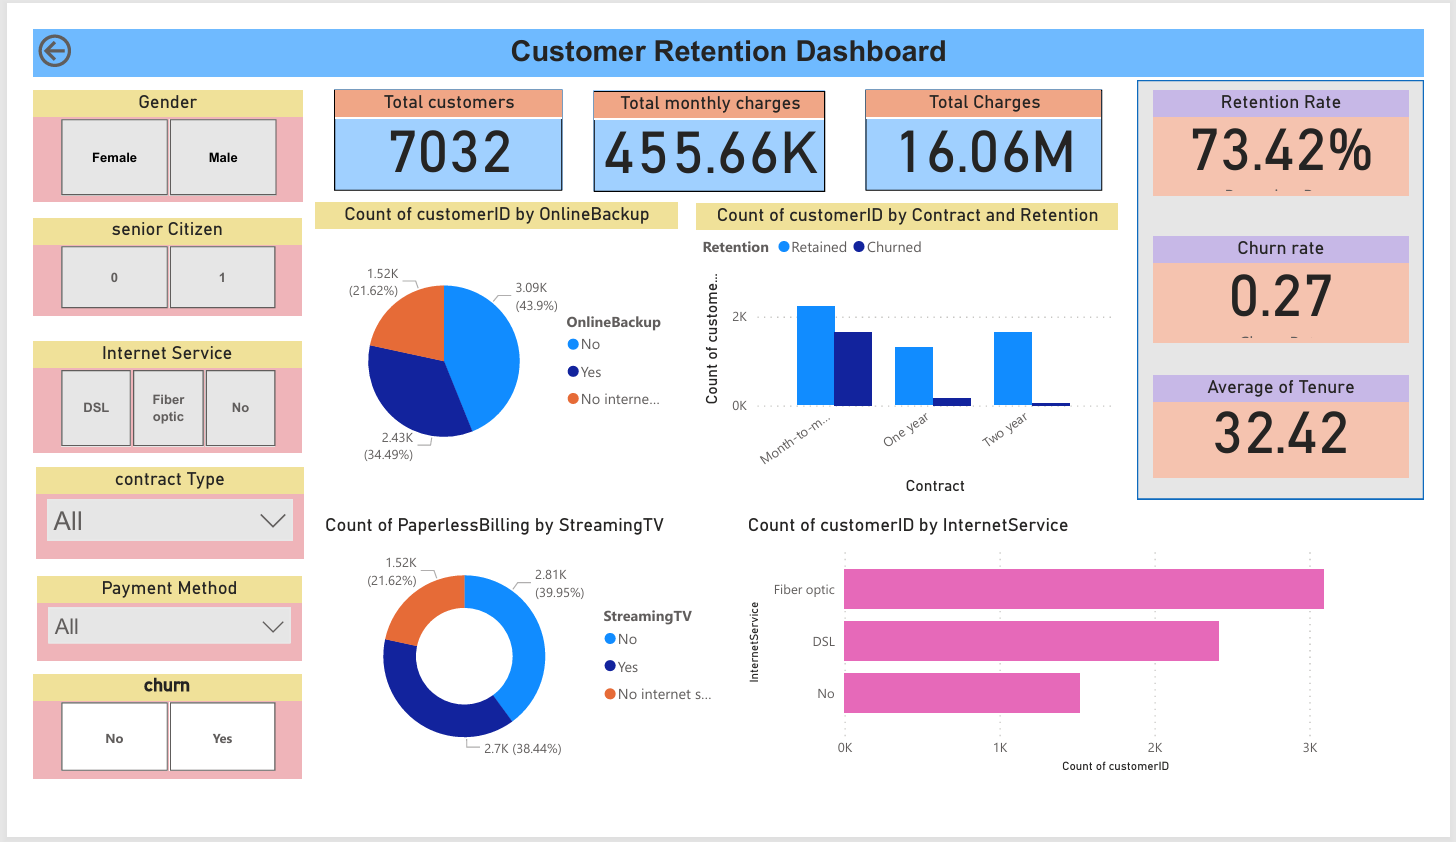

The page's visual inventory and layout, read from the dashboard file:
{"tool":"powerbi","page":{"name":"Page 1","canvas":[1280,720],"ordinal":0},"visuals":[{"type":"card","title":"Total  customers","fields":{"Values":["Count(WA_Fn-UseC_-Telco-Customer-Churn.customerID)"]},"box":[277.1,55.7,210,92.9],"z":0},{"type":"textbox","box":[0,0,1280.3,43.9],"z":1000},{"type":"actionButton","box":[0,0,100,40],"z":2000},{"type":"card","title":"Total monthly charges","fields":{"Values":["Sum(WA_Fn-UseC_-Telco-Customer-Churn.MonthlyCharges)"]},"box":[515.7,57.1,212.9,92.9],"z":3000},{"type":"card","title":"Total Charges","fields":{"Values":["Sum(WA_Fn-UseC_-Telco-Customer-Churn.TotalCharges)"]},"box":[765.7,55.7,218.6,92.9],"z":4000},{"type":"slicer","title":"Gender","fields":{"Values":["telco.gender"]},"box":[0,56.6,248,103.8],"z":5000},{"type":"pieChart","fields":{"Y":["CountNonNull(telco.customerID)"],"Category":["telco.OnlineBackup"]},"box":[260,160,334.3,272.9],"z":6000},{"type":"slicer","title":"senior Citizen","fields":{"Values":["telco.SeniorCitizen"]},"box":[0,173.8,246.6,90.3],"z":7000},{"type":"slicer","title":"Internet Service","fields":{"Values":["telco.InternetService"]},"box":[0,288.4,246.6,102.4],"z":8000},{"type":"slicer","title":"Payment Method","fields":{"Values":["telco.PaymentMethod"]},"box":[4,504,242.6,78.2],"z":9000},{"type":"slicer","title":"contract Type","fields":{"Values":["telco.Contract"]},"box":[2.7,404.3,246.6,83.6],"z":10000},{"type":"clusteredColumnChart","fields":{"Category":["telco.Contract"],"Y":["CountNonNull(telco.customerID)"],"Series":["telco.Retention"]},"box":[611.4,161.4,387.1,271.4],"z":11000},{"type":"shape","box":[1015.7,47.1,264.3,385.7],"z":12000},{"type":"clusteredBarChart","fields":{"Category":["telco.InternetService"],"Y":["CountNonNull(telco.customerID)"]},"box":[652.9,445.7,612.9,244.3],"z":13000},{"type":"donutChart","fields":{"Category":["telco.StreamingTV"],"Y":["CountNonNull(telco.PaperlessBilling)"]},"box":[264.3,445.7,375.7,244.3],"z":14000},{"type":"card","title":"Retention Rate","fields":{"Values":["telco.Retention Rate"]},"box":[1031.4,57.1,234.3,97.1],"z":15000},{"type":"card","title":"Churn rate","fields":{"Values":["telco.Churn Rate"]},"box":[1031.4,191.4,234.3,97.1],"z":16000},{"type":"card","title":"Average of Tenure","fields":{"Values":["Avg(telco.tenure)"]},"box":[1031.4,318.6,234.3,94.3],"z":17000},{"type":"slicer","title":"churn","fields":{"Values":["telco.Churn"]},"box":[0,594.3,246.6,95.7],"z":18000}]}

Visuals, with their boxes in screenshot pixels (x1, y1, x2, y2), scaled from the page's 1280x720 canvas onto the 1456x842 screenshot:
"Total  customers" card: <bbox>315, 65, 554, 174</bbox>
textbox: <bbox>0, 0, 1455, 51</bbox>
actionButton: <bbox>0, 0, 114, 47</bbox>
"Total monthly charges" card: <bbox>587, 67, 829, 175</bbox>
"Total Charges" card: <bbox>871, 65, 1120, 174</bbox>
"Gender" slicer: <bbox>0, 66, 282, 188</bbox>
pieChart - CountNonNull(telco.customerID) x telco.OnlineBackup: <bbox>296, 187, 676, 506</bbox>
"senior Citizen" slicer: <bbox>0, 203, 281, 309</bbox>
"Internet Service" slicer: <bbox>0, 337, 281, 457</bbox>
"Payment Method" slicer: <bbox>5, 589, 281, 681</bbox>
"contract Type" slicer: <bbox>3, 473, 284, 571</bbox>
clusteredColumnChart - telco.Contract x CountNonNull(telco.customerID): <bbox>695, 189, 1136, 506</bbox>
shape: <bbox>1155, 55, 1455, 506</bbox>
clusteredBarChart - telco.InternetService x CountNonNull(telco.customerID): <bbox>743, 521, 1440, 807</bbox>
donutChart - telco.StreamingTV x CountNonNull(telco.PaperlessBilling): <bbox>301, 521, 728, 807</bbox>
"Retention Rate" card: <bbox>1173, 67, 1440, 180</bbox>
"Churn rate" card: <bbox>1173, 224, 1440, 337</bbox>
"Average of Tenure" card: <bbox>1173, 373, 1440, 483</bbox>
"churn" slicer: <bbox>0, 695, 281, 807</bbox>
